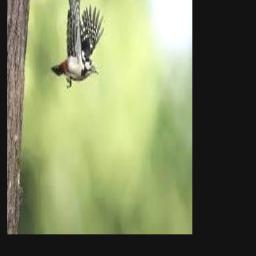Woodpecker: (51, 0, 105, 88)
